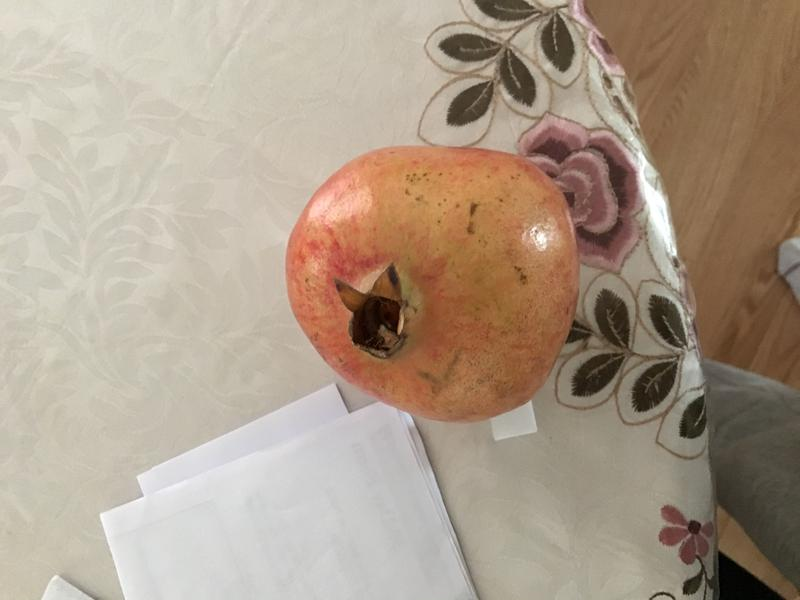pomegranate: (266, 135, 604, 434)
